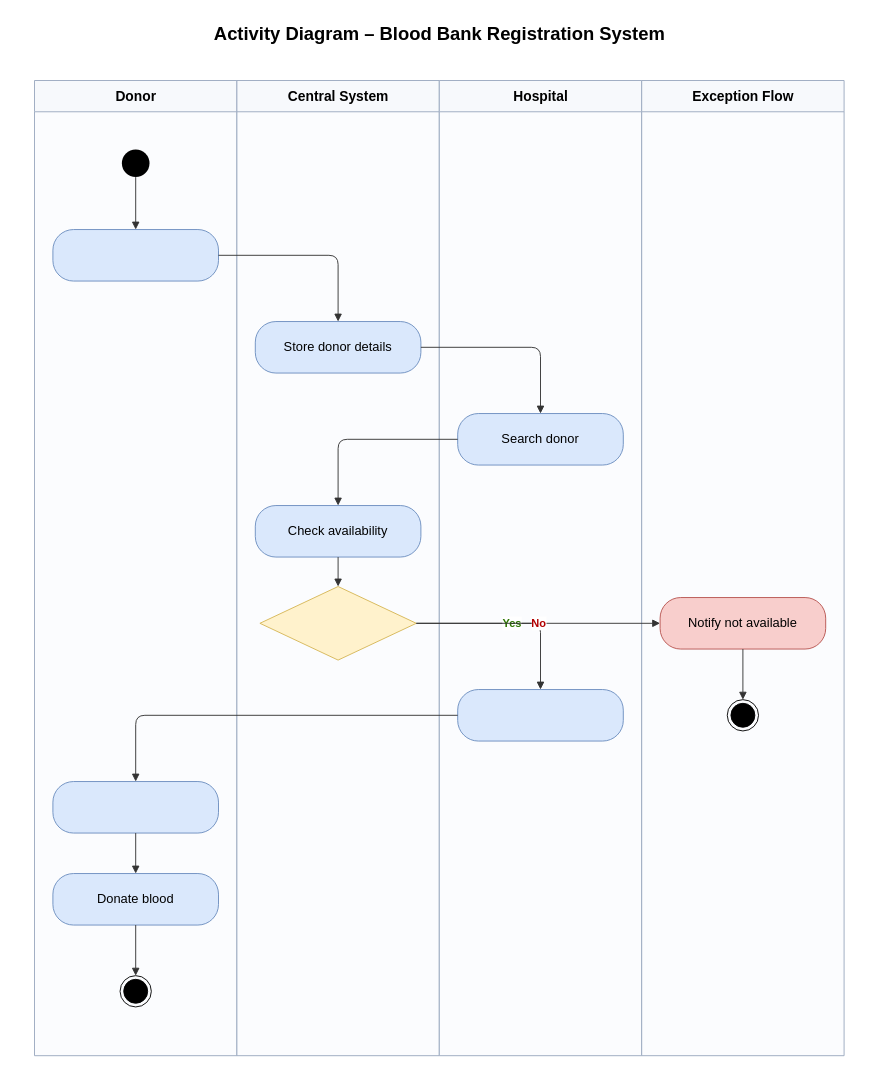
Image size: 878x1072. Some labels were removed from this diagram. Here are the shapes that lost their labels. From the top down, the centre of each, then its label:
(135,255): Register as donor
(337,623): Donor available?
(540,715): Book appointment
(135,807): Confirm appointment
